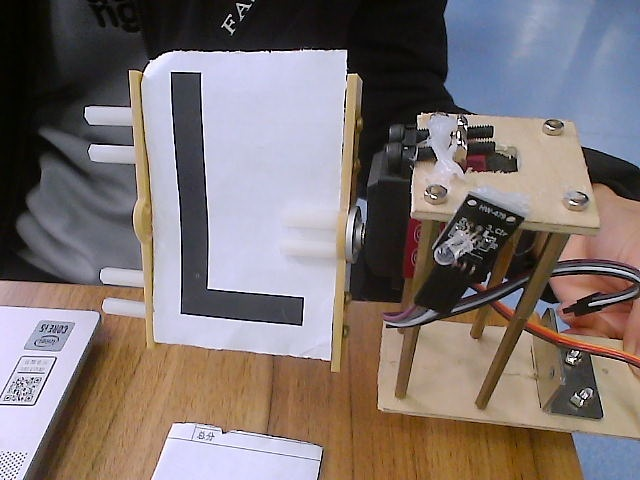L: (77, 25, 422, 383)
